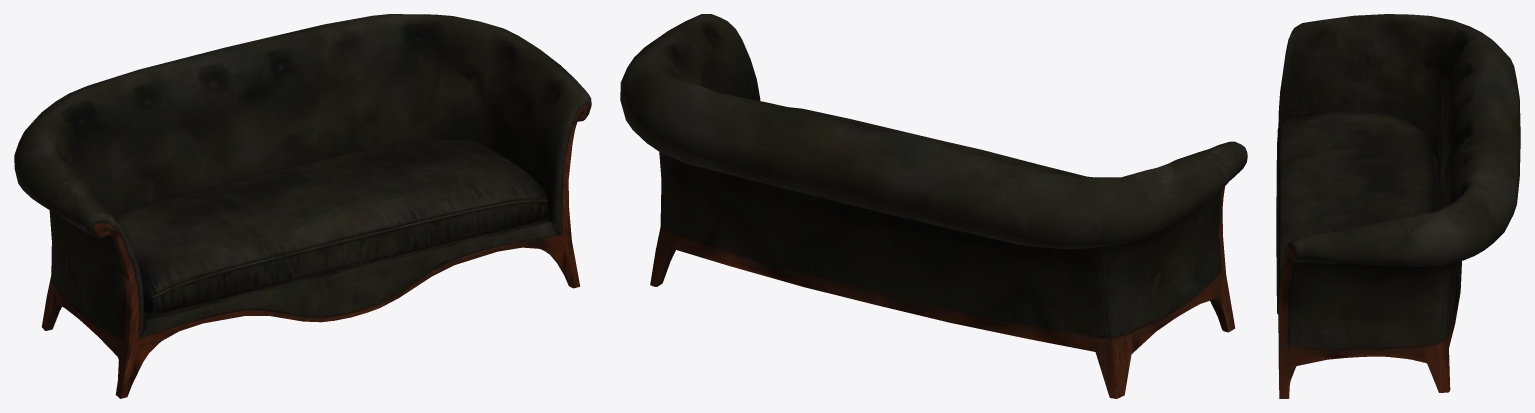
File: ph-sofa-leather-medium.glb
3 renders of one model, left to right at view 1: azimuth 30°, elevation 25°; view 2: azimuth 150°, elevation 25°; view 3: azimuth 270°, elevation 25°, orthographic. The views are drawn at different scales.
Visible parts, largest first — view 1: sofa_02_Base, sofa_02_Seat; view 2: sofa_02_Base, sofa_02_Seat; view 3: sofa_02_Base, sofa_02_Seat.
Boxes of the visible parts, x1,y1,x2,y2 form: sofa_02_Base: [14, 14, 591, 398]; sofa_02_Seat: [115, 139, 549, 314]; sofa_02_Base: [620, 14, 1247, 398]; sofa_02_Seat: [789, 107, 1086, 176]; sofa_02_Base: [1278, 14, 1520, 398]; sofa_02_Seat: [1276, 112, 1433, 314].
Size of the model in its own units: 1.81 by 0.7095 by 0.8178.
1 material, 1 textured.
